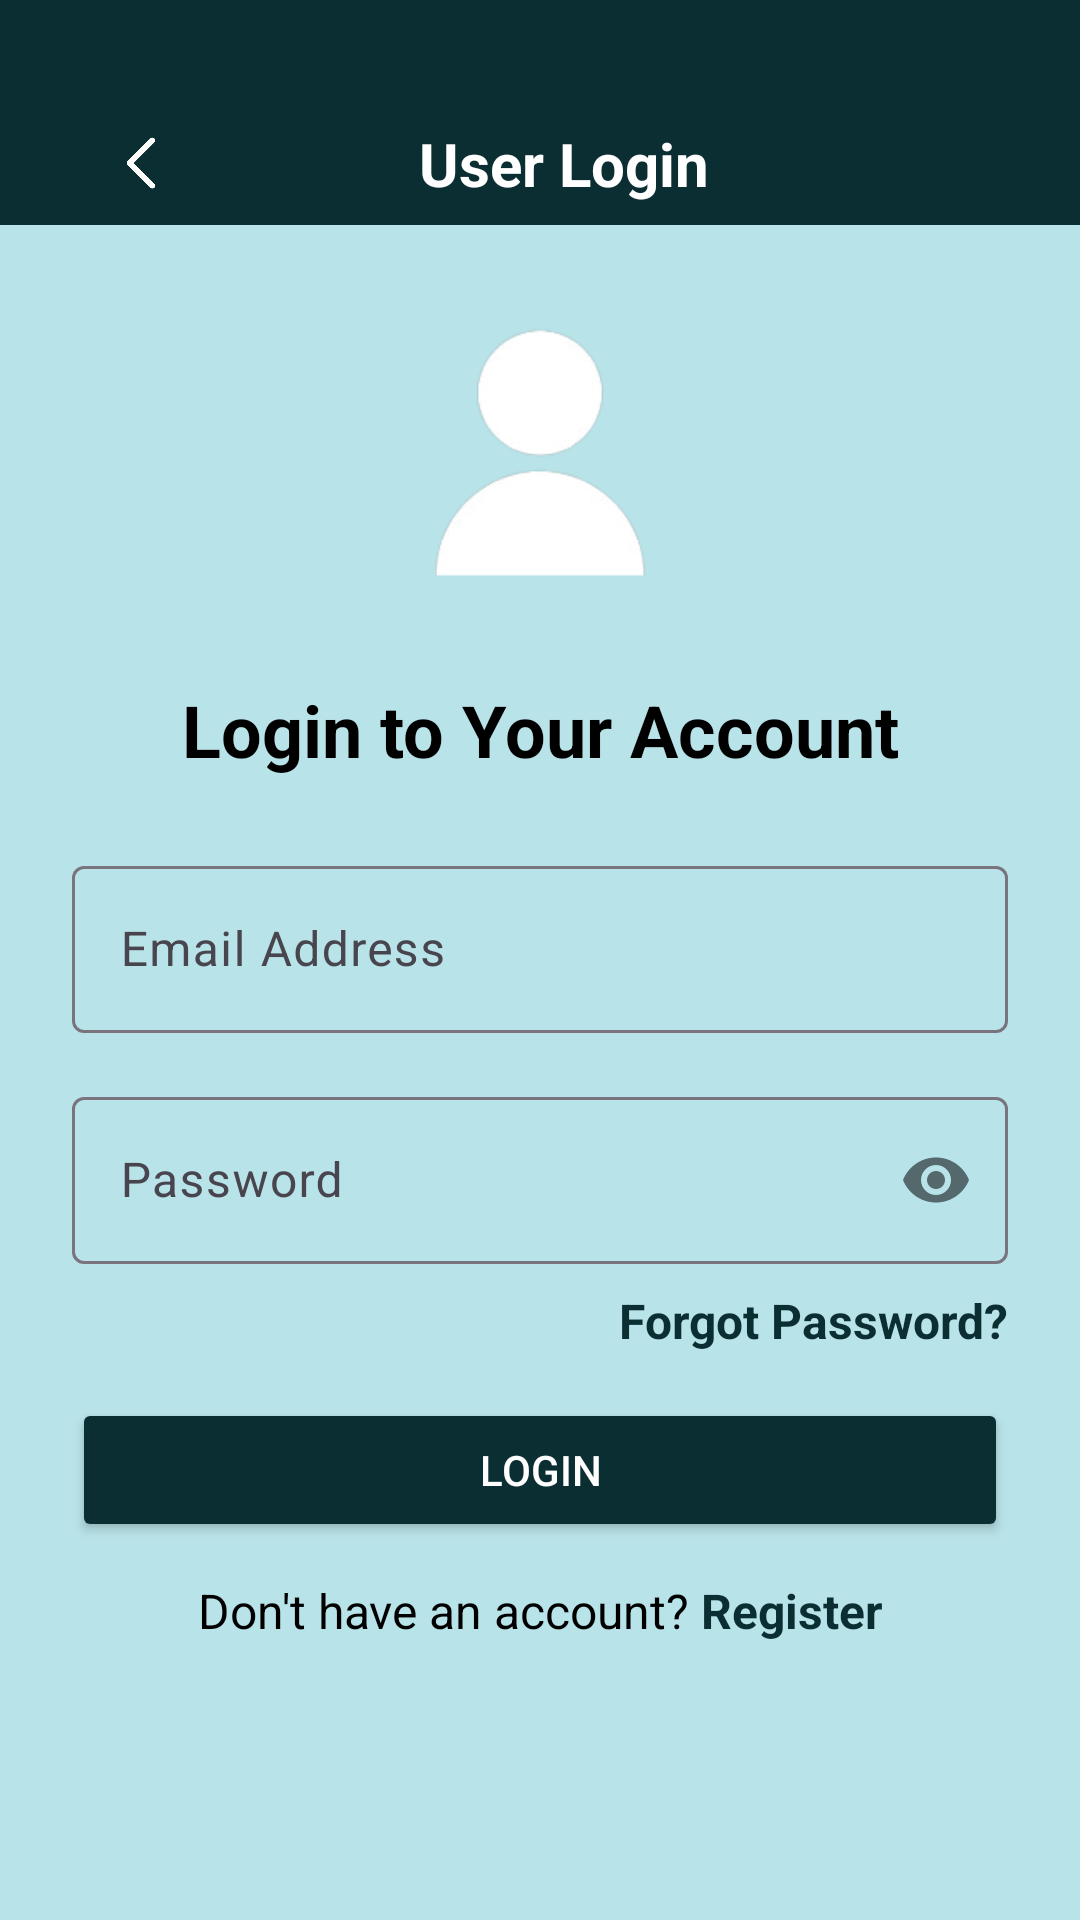

Screen size 1080*1920. Icon name, then its box in pixels as (x1, y1, x2, y2):
Back: (127, 137, 155, 189)
Header image: (436, 330, 644, 576)
